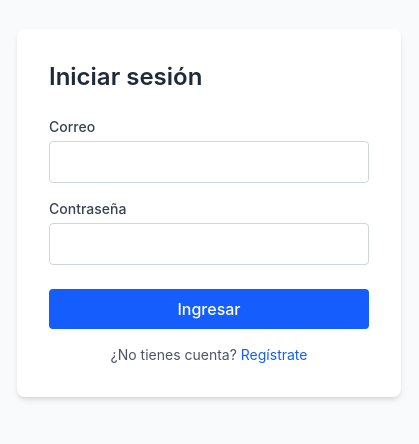
Test case: Login (integración) › muestra un mensaje de error cuando las credenciales son inválidas
In the field labelled "Correo": (209, 162) [49,141,369,183], type "malo@example.com"
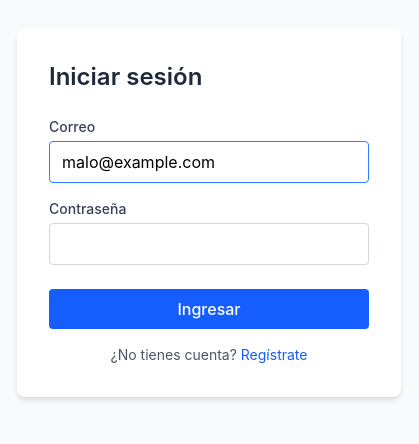
In the password field labelled "Contraseña": (209, 244) [49,223,369,265], type "incorrecta"
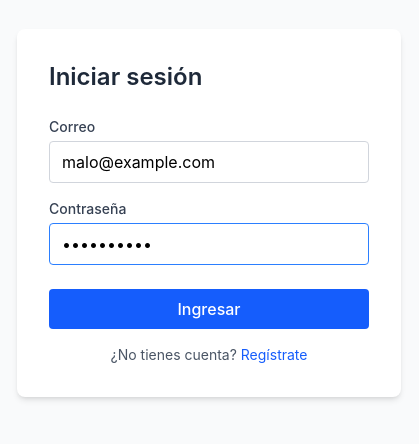
Click the button "Ingresar": click(209, 309) [49,289,369,329]
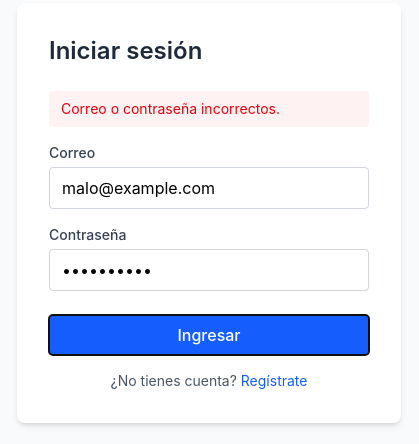
Check: the text "Correo o contraseña incorrectos." is shown, box [49,91,369,127]
